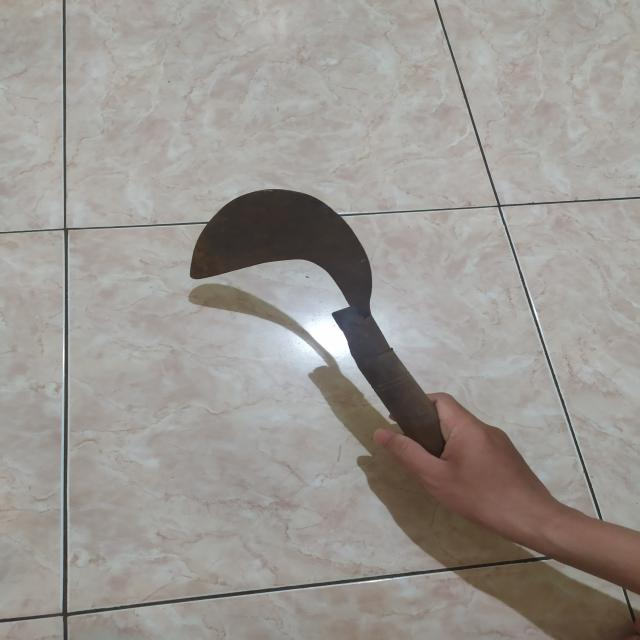Celurit: (189, 188, 475, 483)
